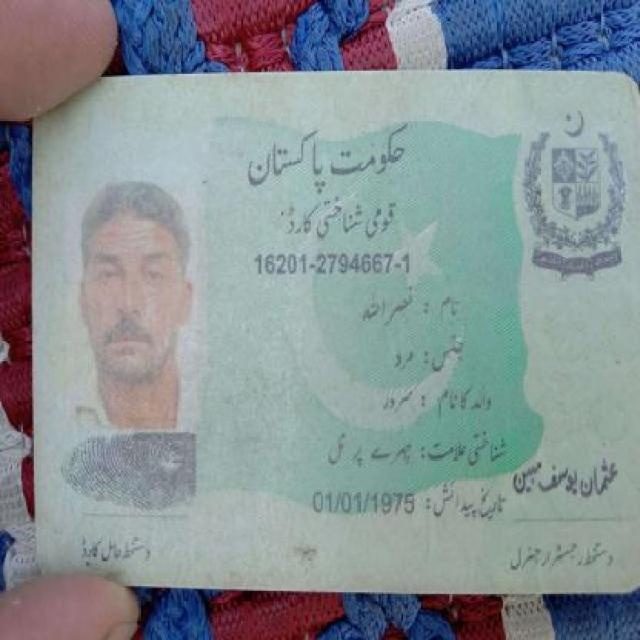Front: (34, 59, 638, 603)
